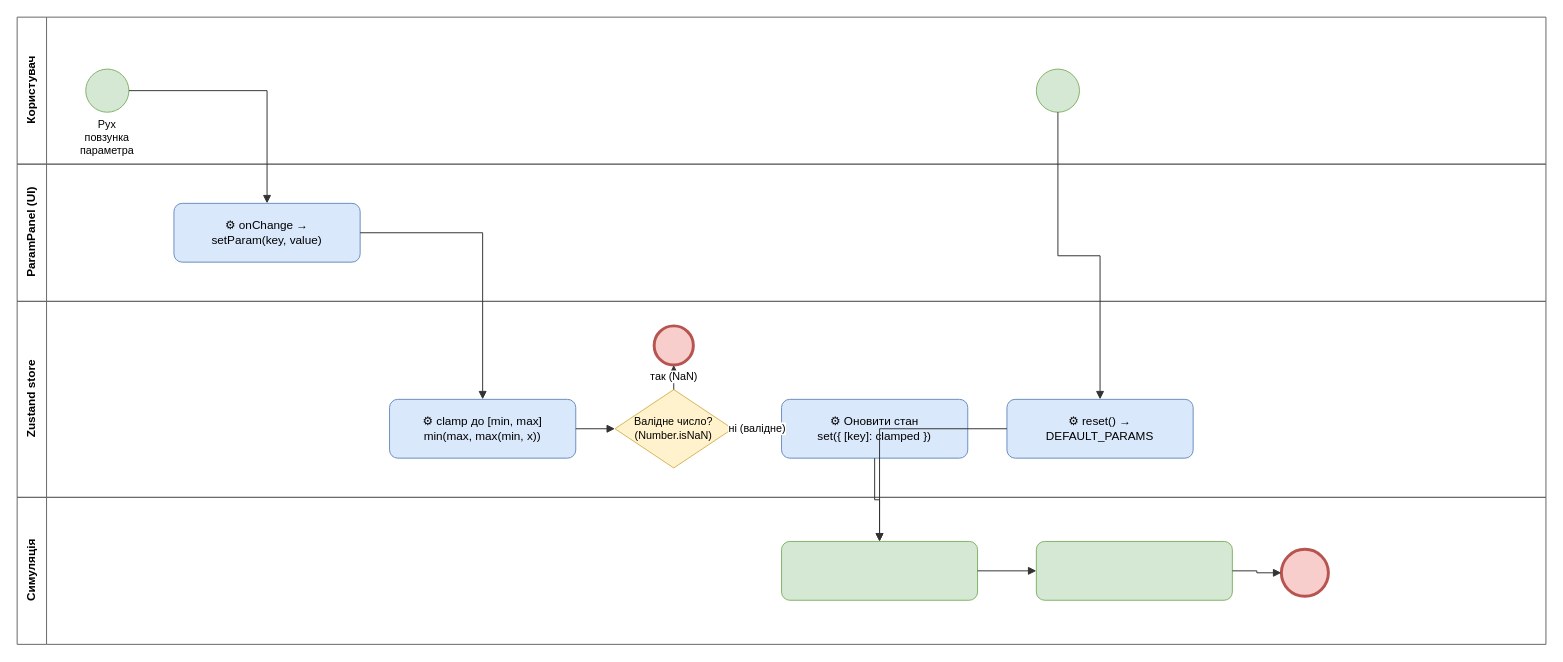
The diagram is 1563 pixels wide and 662 high, and some of its shapes have lost their labels. Each missing label, with the centre of its shape:
"Відхилено (NaN)" belongs at [673,345].
"Натиснуто «Reset»" belongs at [1057,90].
"Параметри застосовано наживо" belongs at [1304,572].
"⚙ persist → localStorage (target-params-v3)" belongs at [879,570].
"⚙ useFrame щокадру читає нові значення" belongs at [1133,570].
